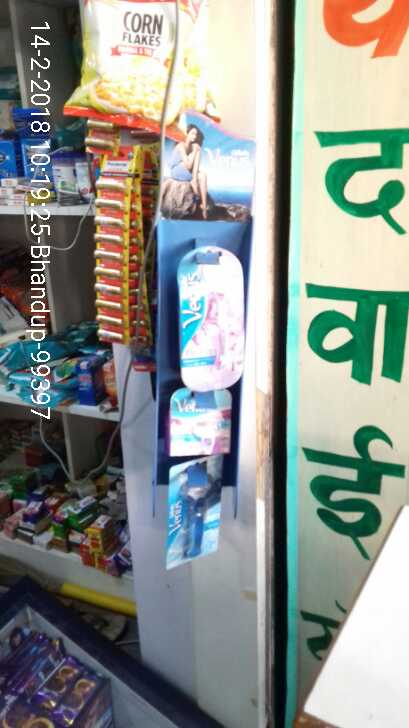beauty: (174, 244, 245, 389), (170, 462, 222, 565), (167, 388, 233, 459)
